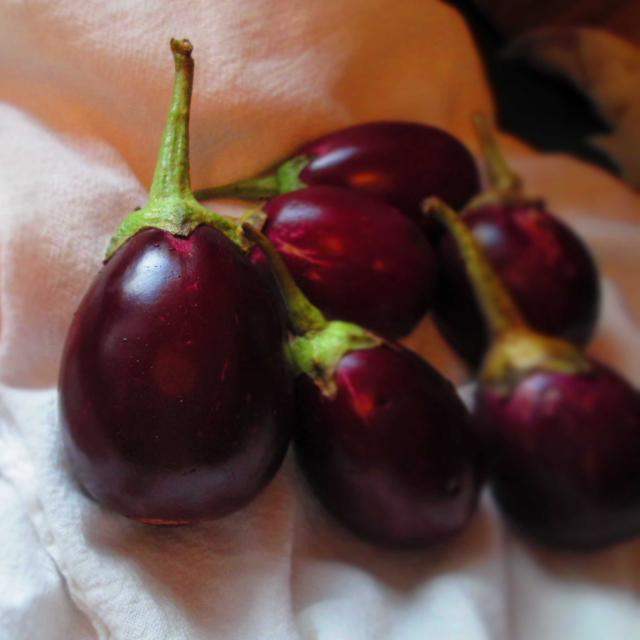Eggplant-r1Ob: (59, 40, 292, 524), (244, 224, 483, 548), (423, 198, 640, 550)
